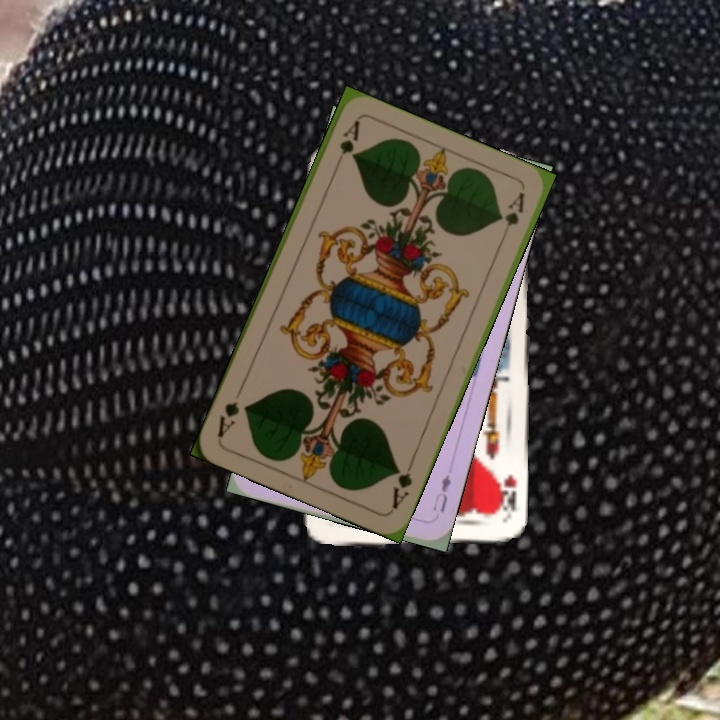EU: (428, 470, 454, 516)
GA: (330, 117, 363, 173), (387, 455, 417, 512)
HK: (493, 470, 520, 523)
